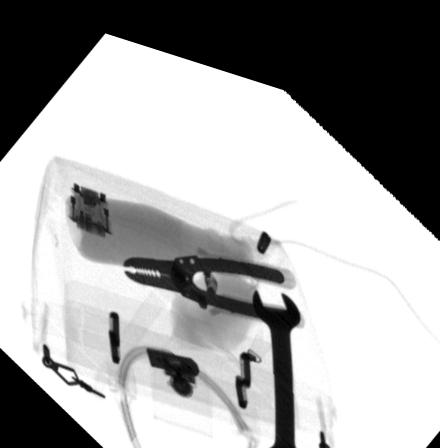Pliers: (120, 243, 299, 308)
Wrench: (250, 270, 307, 448)
